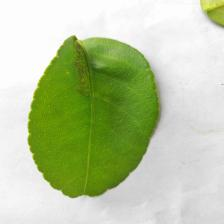greening: (24, 34, 164, 202)
